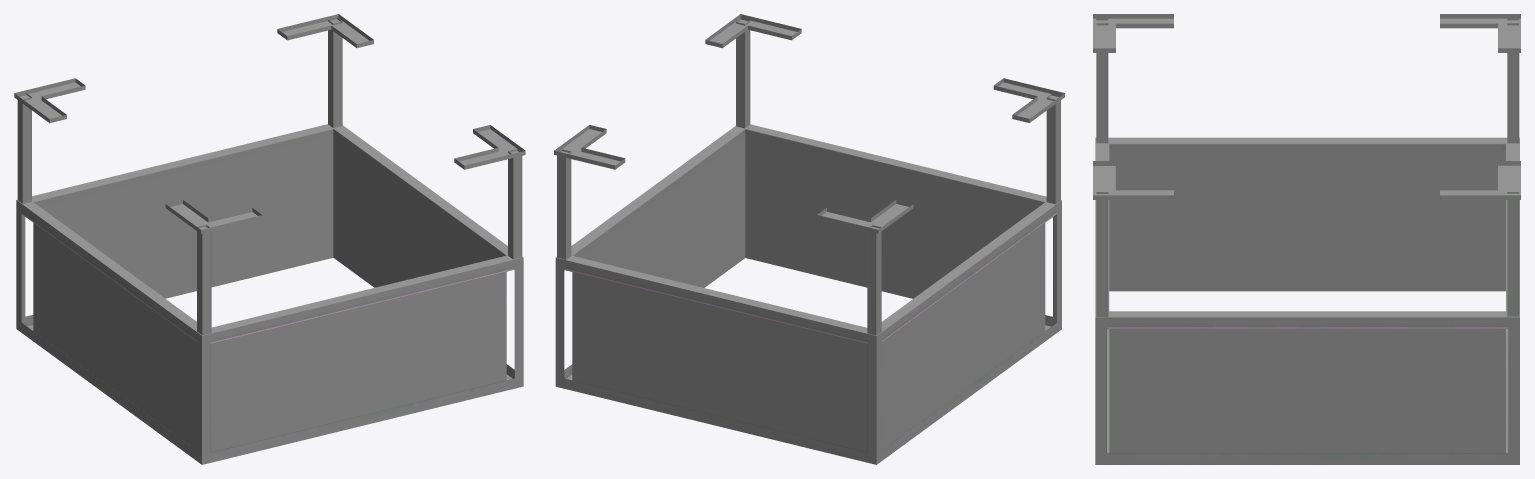
The model's file is 189_HangSignBoard.fbx.
3 renders of one model, left to right at view 1: azimuth 30°, elevation 25°; view 2: azimuth 150°, elevation 25°; view 3: azimuth 270°, elevation 25°, orthographic. The views are drawn at different scales.
Parts seen in each view (by area): view 1: LOD_1_Group_0_Sub_1__sm30_189_HangSignboard01A_A_Mat; view 2: LOD_1_Group_0_Sub_1__sm30_189_HangSignboard01A_A_Mat; view 3: LOD_1_Group_0_Sub_1__sm30_189_HangSignboard01A_A_Mat.
Part boxes in pixels (x1=…): LOD_1_Group_0_Sub_1__sm30_189_HangSignboard01A_A_Mat: x1=14, y1=14, x2=525, y2=464; LOD_1_Group_0_Sub_1__sm30_189_HangSignboard01A_A_Mat: x1=554, y1=14, x2=1064, y2=464; LOD_1_Group_0_Sub_1__sm30_189_HangSignboard01A_A_Mat: x1=1093, y1=14, x2=1520, y2=464.
Size of the model in its own units: 0.7973 by 0.5543 by 0.7949.
